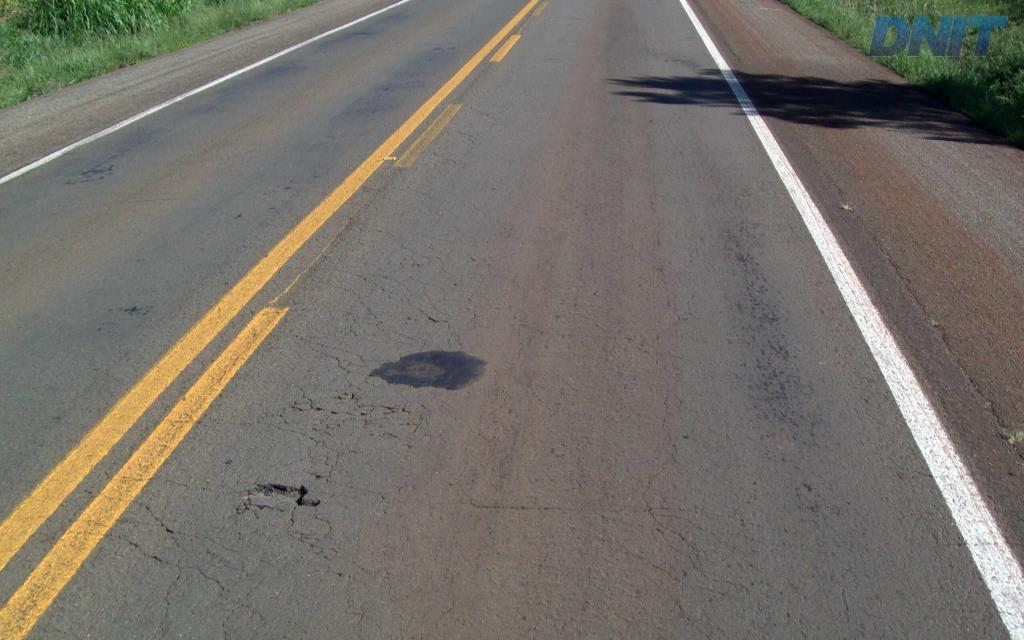pothole: (239, 474, 324, 510)
